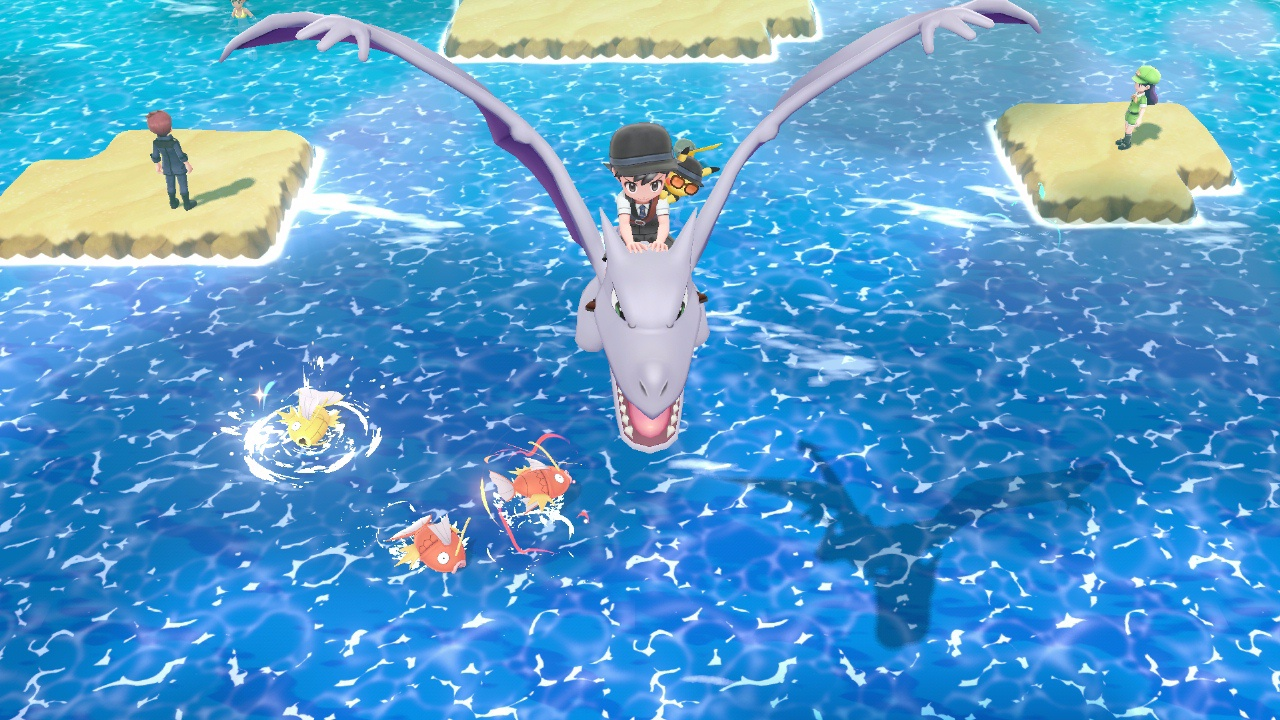Golden: (278, 384, 342, 449)
